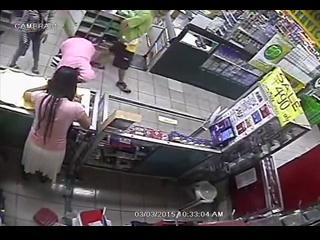Normal: (20, 66, 93, 190), (7, 10, 50, 75), (54, 36, 97, 83)
